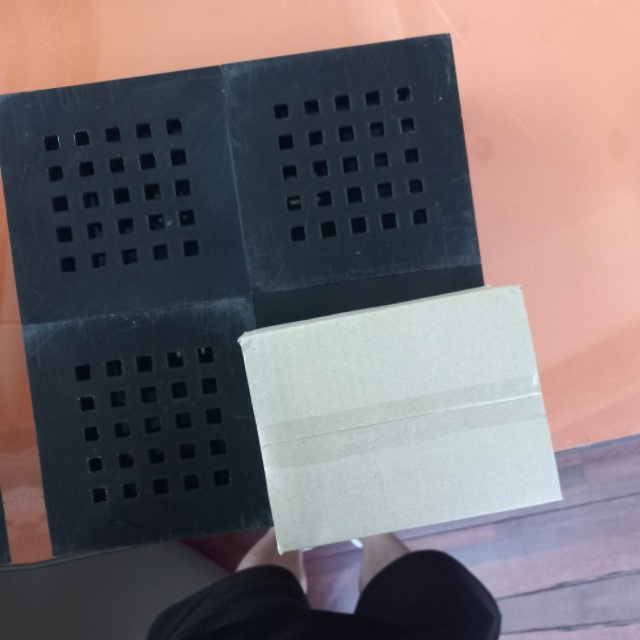box: (239, 281, 566, 555)
pallet: (0, 21, 540, 563)
